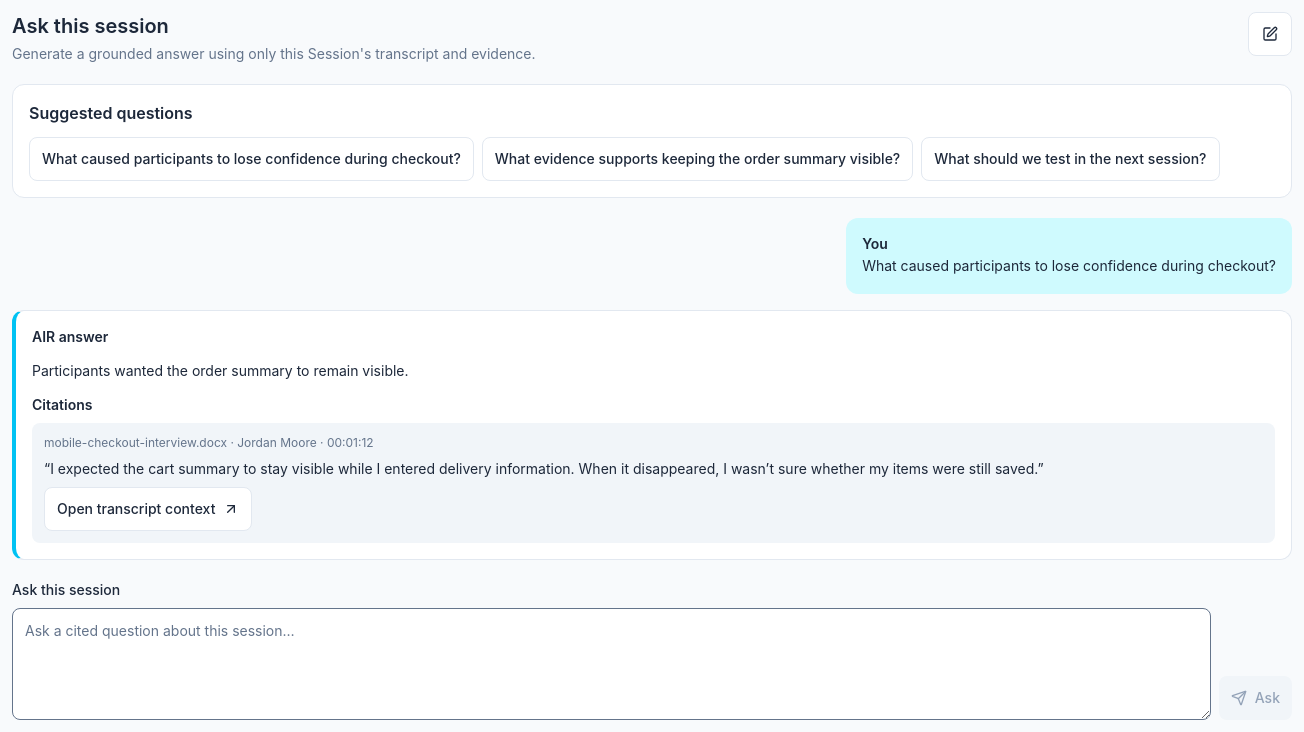
Test: Ask this Session Storybook component › starts a new chat and keeps suggested questions available
Expected: the heading "AIR answer" is shown, [32,328,108,345]
Click the button named "New chat" at (1270, 34), box [1248,12,1292,56]
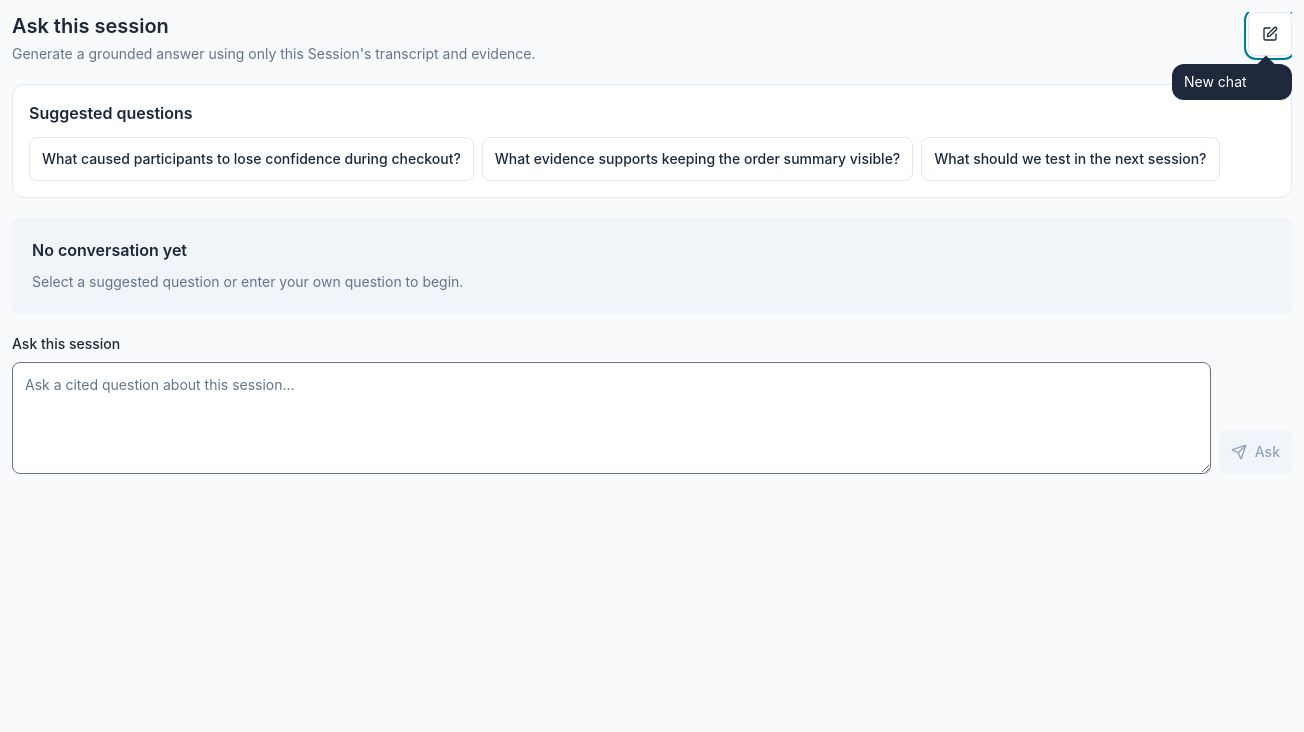
Expected: the heading "Suggested questions" is shown, [29,103,193,123]
Expected: the heading "AIR answer" is gone
